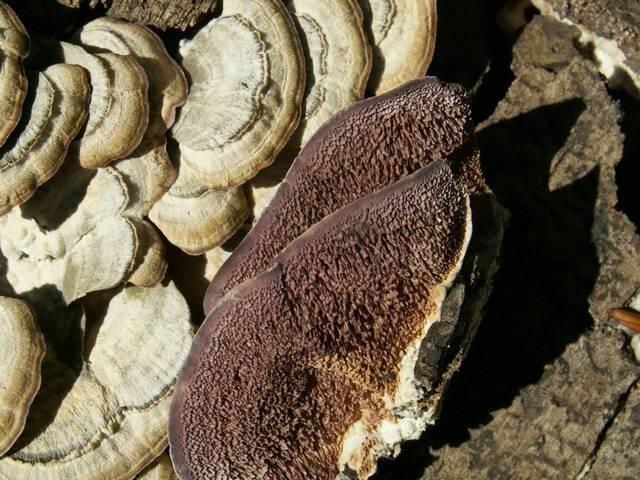Non-edible Mushroom: (0, 0, 493, 479)
